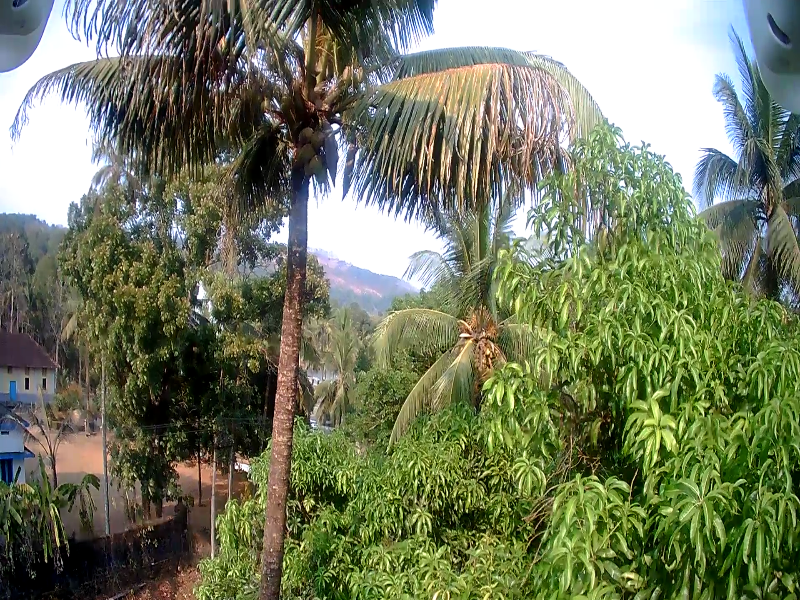coconut: (349, 60, 363, 87), (337, 65, 348, 87), (297, 126, 310, 144), (306, 153, 318, 171), (308, 127, 321, 142), (259, 97, 268, 113), (293, 147, 304, 160)
